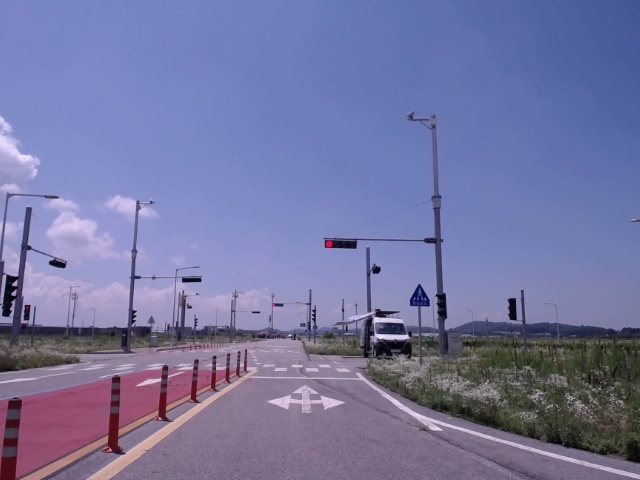red_4: (325, 237, 358, 248)
